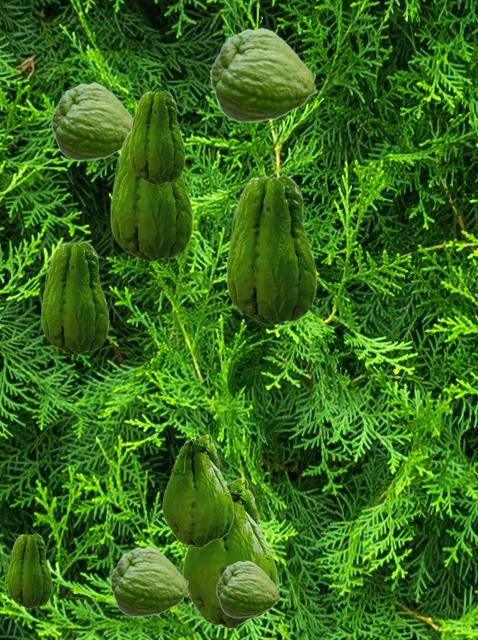sayote: (182, 477, 277, 628), (226, 174, 316, 325), (110, 128, 192, 261), (210, 27, 317, 122), (162, 434, 233, 547), (41, 241, 108, 354), (51, 82, 132, 160), (110, 546, 189, 616), (129, 90, 184, 184), (216, 560, 280, 617), (7, 533, 51, 607)
